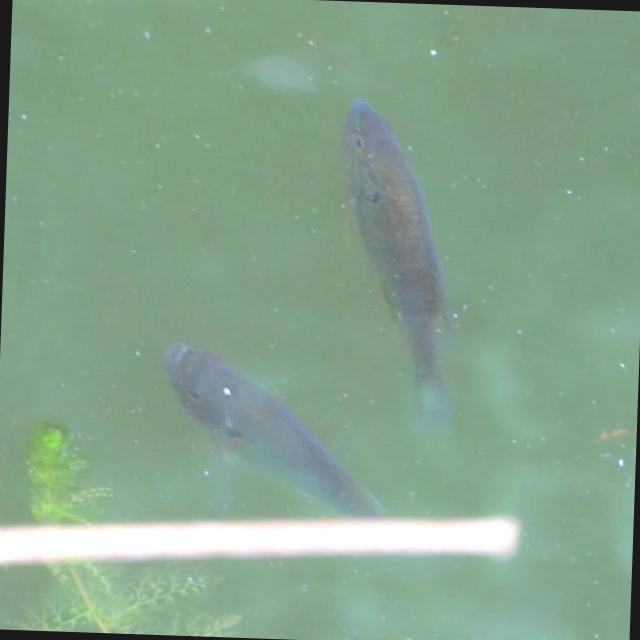Gunes Levregi: (330, 96, 467, 437), (154, 340, 392, 519)
